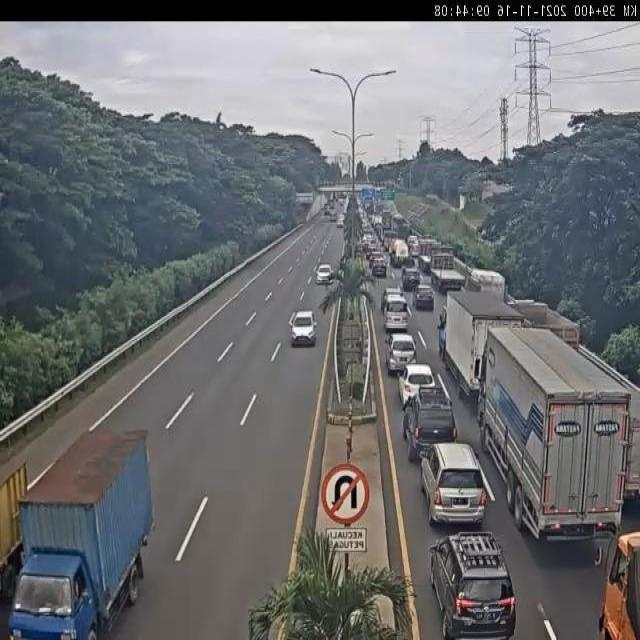Car: (428, 530, 516, 640), (419, 442, 488, 526), (404, 387, 458, 463), (398, 362, 438, 410), (386, 333, 418, 375), (290, 310, 318, 347), (381, 287, 406, 316), (414, 285, 435, 310), (402, 266, 421, 291), (314, 264, 334, 284), (369, 250, 385, 269), (371, 260, 387, 277), (336, 215, 345, 228), (330, 212, 338, 222), (324, 206, 332, 215)
Truck: (476, 324, 634, 539), (3, 432, 162, 640), (442, 284, 522, 403), (598, 528, 640, 638), (509, 301, 580, 350), (430, 254, 464, 295), (468, 269, 506, 299), (416, 238, 440, 268), (391, 240, 409, 267)
